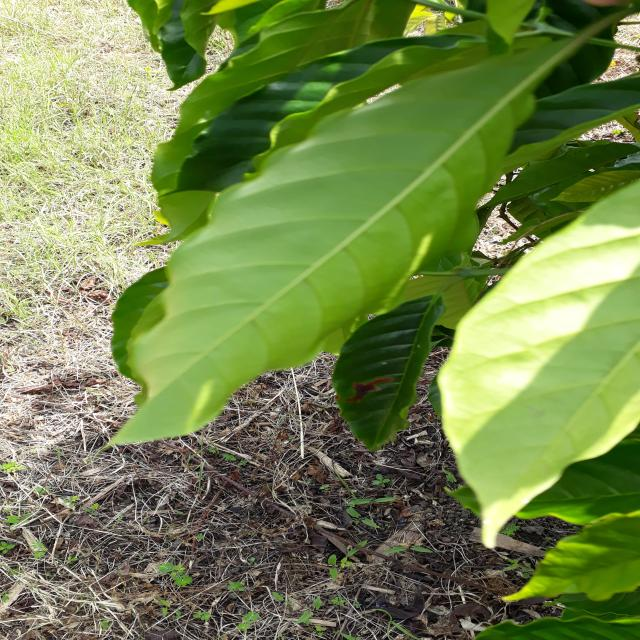Sanas: (108, 32, 576, 449)
